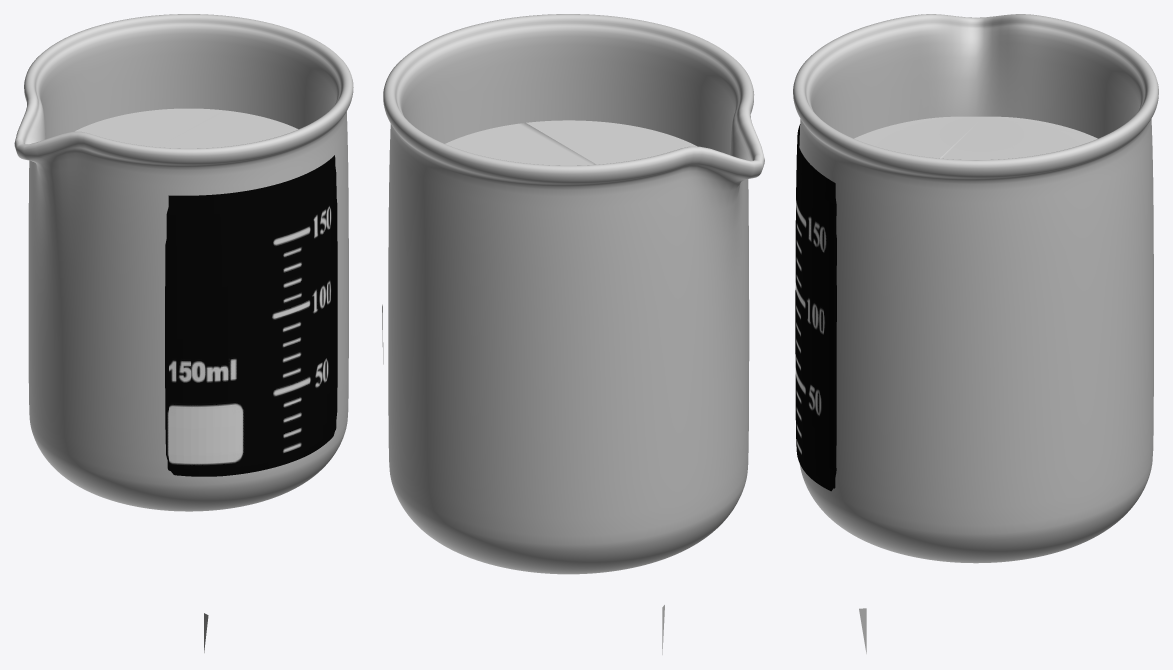
3 views of the same model, side by side, from view 1: azimuth 30°, elevation 25°; view 2: azimuth 150°, elevation 25°; view 3: azimuth 270°, elevation 25° (orthographic). The views are drawn at different scales.
Visible parts, largest first — view 1: Circle_0, Plane_1, Liquid_mesh; view 2: Circle_0, Liquid_mesh; view 3: Circle_0, Plane_1, Liquid_mesh.
Boxes of the visible parts, x1,y1,x2,y2 form: Circle_0: (14,14,353,652); Plane_1: (165,155,337,476); Liquid_mesh: (75,108,298,148); Circle_0: (382,14,764,654); Liquid_mesh: (445,120,697,165); Circle_0: (793,14,1158,653); Plane_1: (795,124,836,491); Liquid_mesh: (854,116,1097,159).
Size of the model in its own units: 725 by 1165 by 656.
